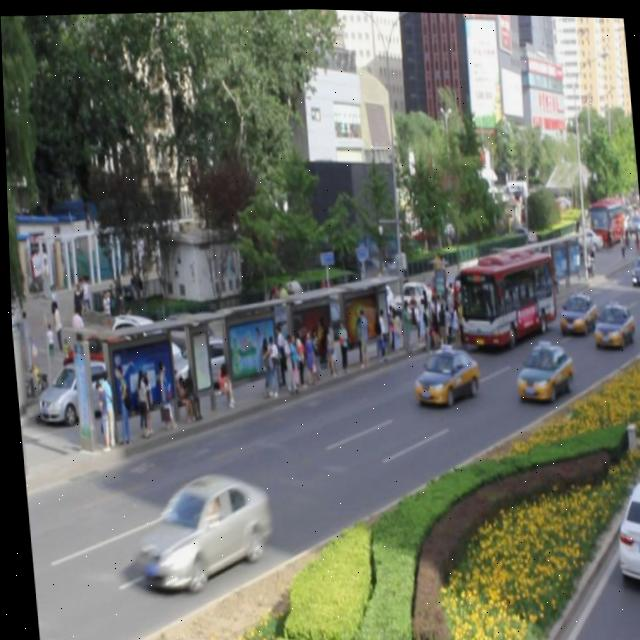car: (128, 468, 267, 594), (409, 343, 476, 405), (508, 337, 571, 401), (587, 296, 631, 347), (554, 289, 593, 334)
van: (451, 241, 557, 349)
